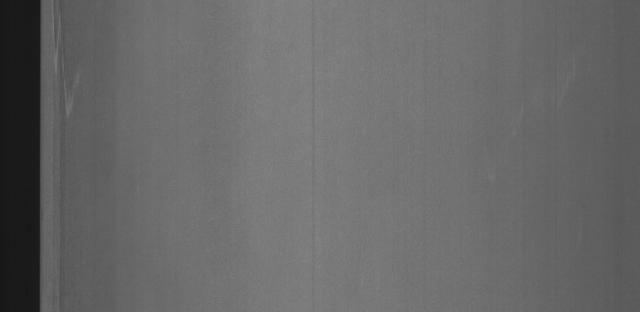silk_spot: (46, 4, 82, 119)
